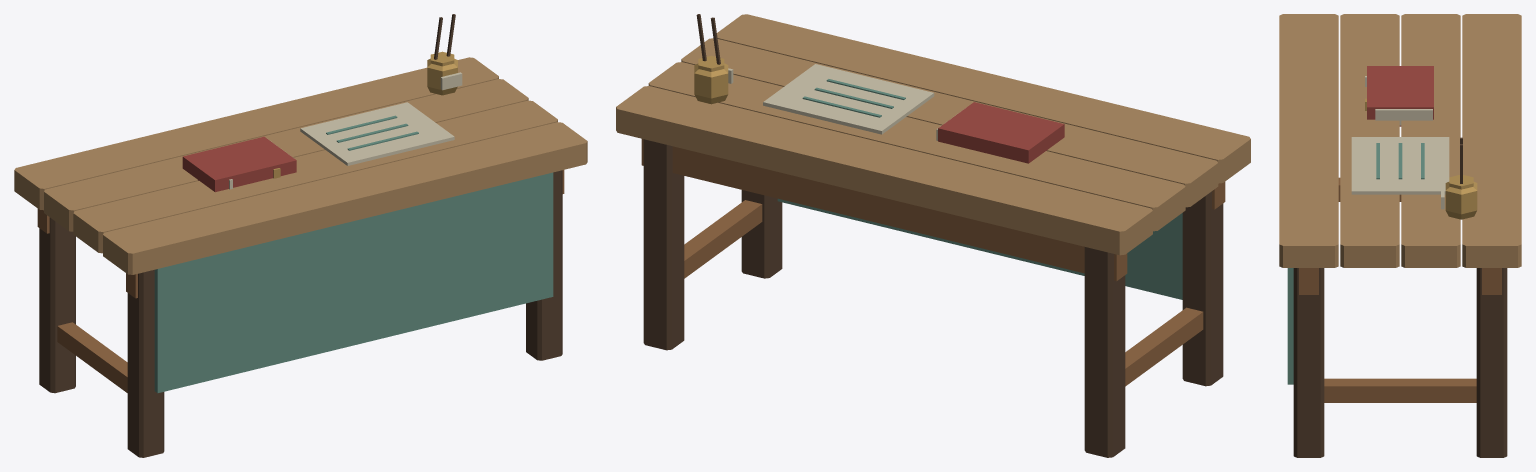
File: desk_teacher.glb
3 views of the same model, side by side, from view 1: azimuth 30°, elevation 25°; view 2: azimuth 150°, elevation 25°; view 3: azimuth 270°, elevation 25° (orthographic). The views are drawn at different scales.
Parts seen in each view (by area): view 1: geometry; view 2: geometry; view 3: geometry.
Part boxes in pixels (<box>): geometry: <box>14,14,587,457</box>; geometry: <box>616,14,1250,457</box>; geometry: <box>1279,14,1521,457</box>.
Size of the model in its own units: 1.8 by 1.08 by 0.794.
